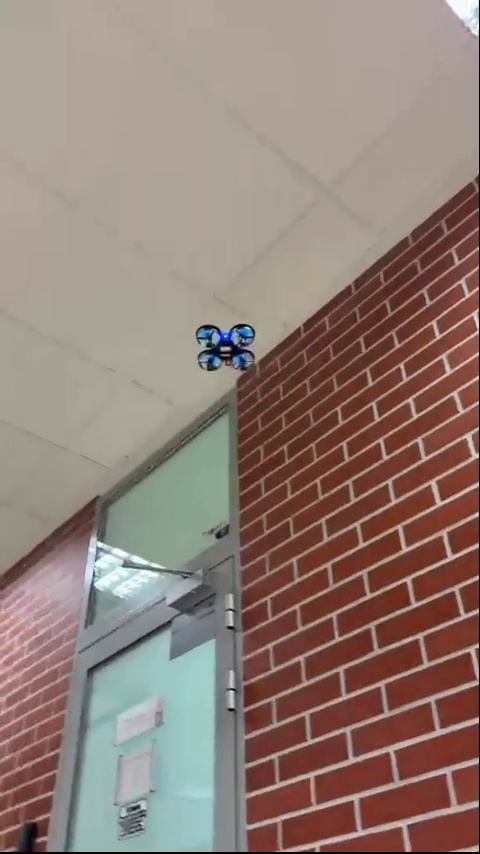drone: (194, 325, 265, 370)
